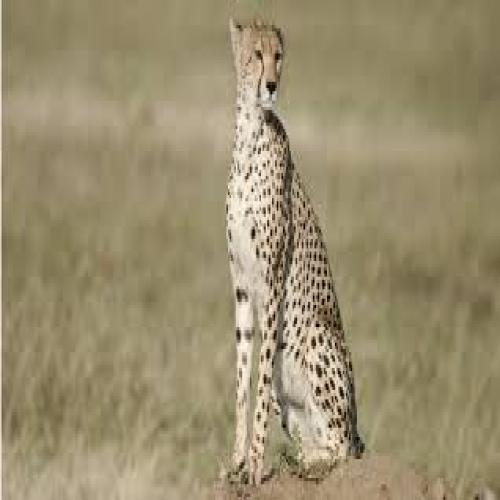cheetah-endangered: (224, 15, 367, 489)
